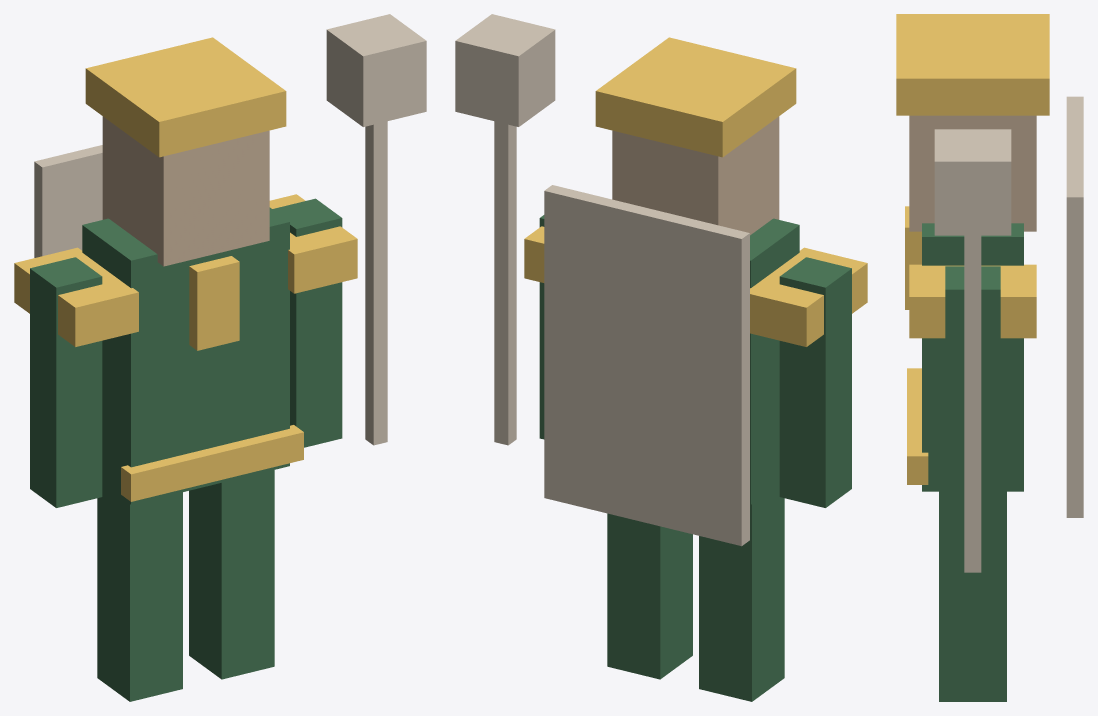
The model's file is 08_auren_wayfare_fixer_at.glb.
3 views of the same model, side by side, from view 1: azimuth 30°, elevation 25°; view 2: azimuth 150°, elevation 25°; view 3: azimuth 270°, elevation 25° (orthographic). The views are drawn at different scales.
Parts seen in each view (by area): view 1: Auren Wayfare, Fixer at; view 2: Auren Wayfare, Fixer at; view 3: Auren Wayfare, Fixer at.
Part boxes in pixels (x1,y1,x2,y2): Auren Wayfare, Fixer at: (14, 14, 426, 701); Auren Wayfare, Fixer at: (455, 14, 867, 701); Auren Wayfare, Fixer at: (896, 14, 1083, 701).
Size of the model in its own units: 1.1 by 1.7 by 0.4663.
